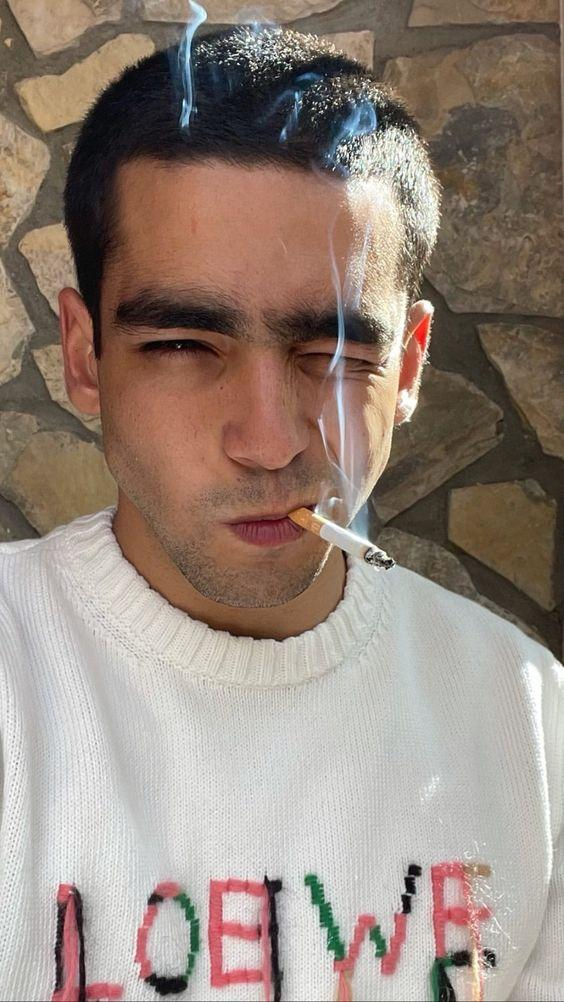cigarette: (288, 507, 395, 569)
